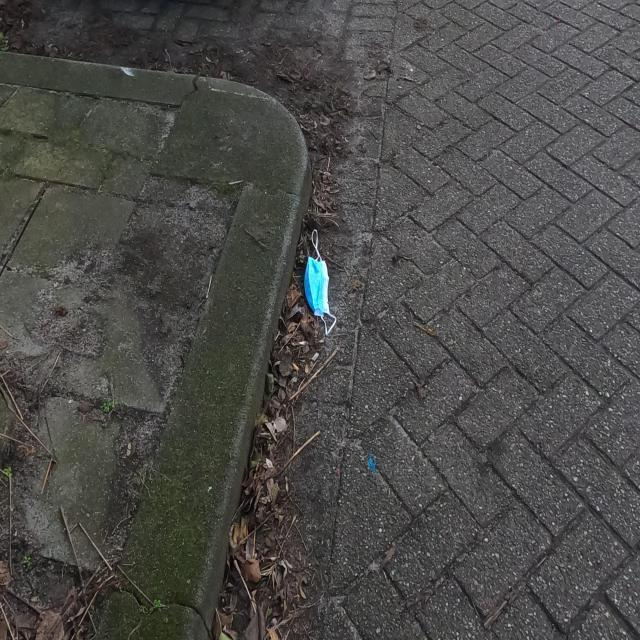Mask: (301, 227, 338, 338)
